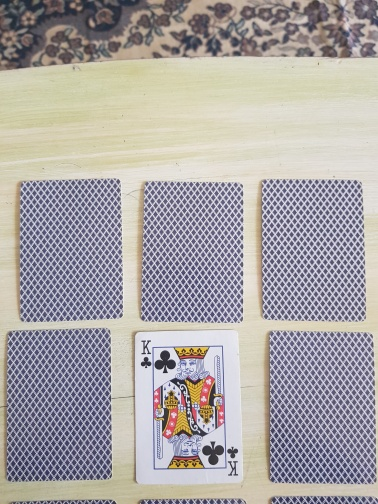king: (134, 328, 244, 485)
